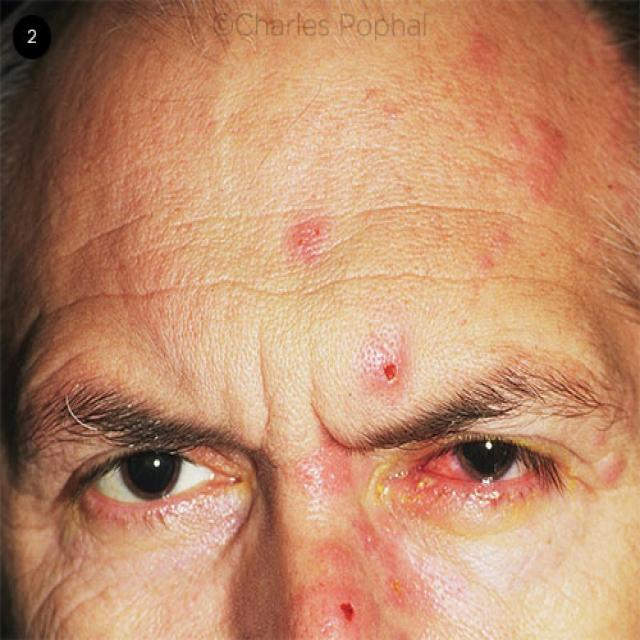herpes zoster: (441, 14, 581, 219), (279, 465, 400, 640), (351, 335, 408, 402), (283, 214, 332, 258)
